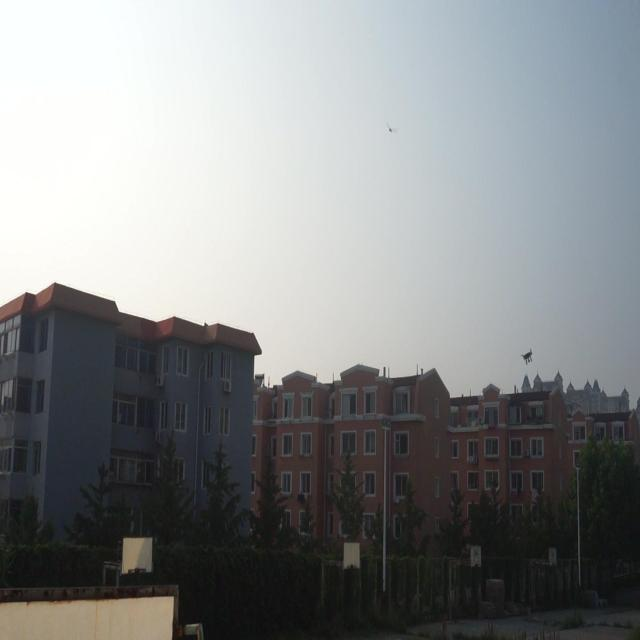drone: (520, 343, 536, 370)
